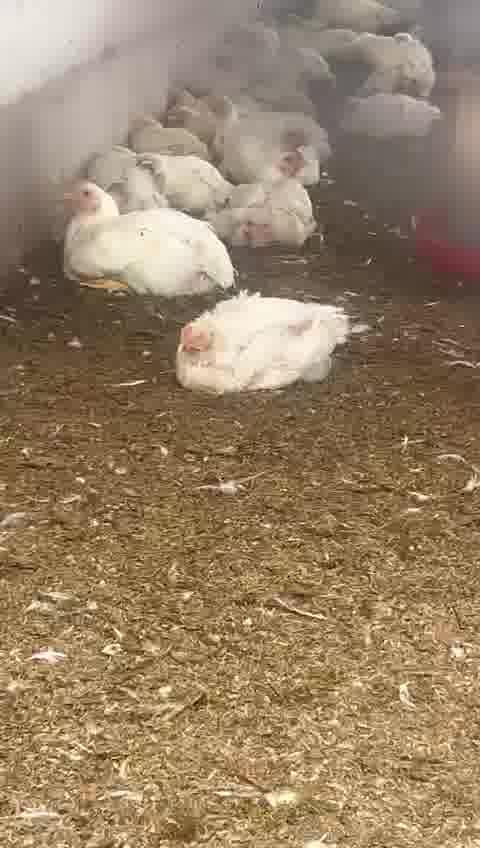AbNormal: (173, 282, 353, 394), (114, 109, 209, 173), (98, 156, 174, 207), (157, 78, 223, 131), (202, 51, 265, 94)
Normal: (60, 178, 240, 308), (224, 152, 315, 250), (210, 94, 328, 150), (331, 86, 446, 136), (228, 131, 323, 175)
